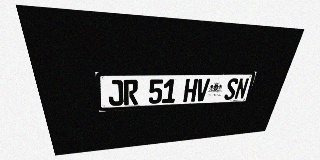1: (162, 79, 177, 103)
5: (149, 79, 163, 104)
H: (183, 79, 198, 102)
J: (107, 80, 124, 106)
N: (234, 78, 250, 99)
R: (123, 80, 138, 105)
S: (223, 78, 239, 100)
V: (195, 79, 210, 101)
